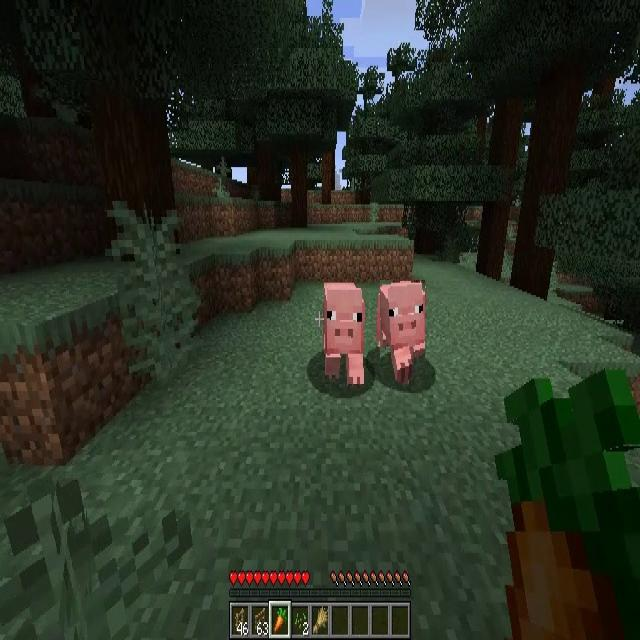pig: (380, 280, 425, 380), (323, 283, 364, 383)
